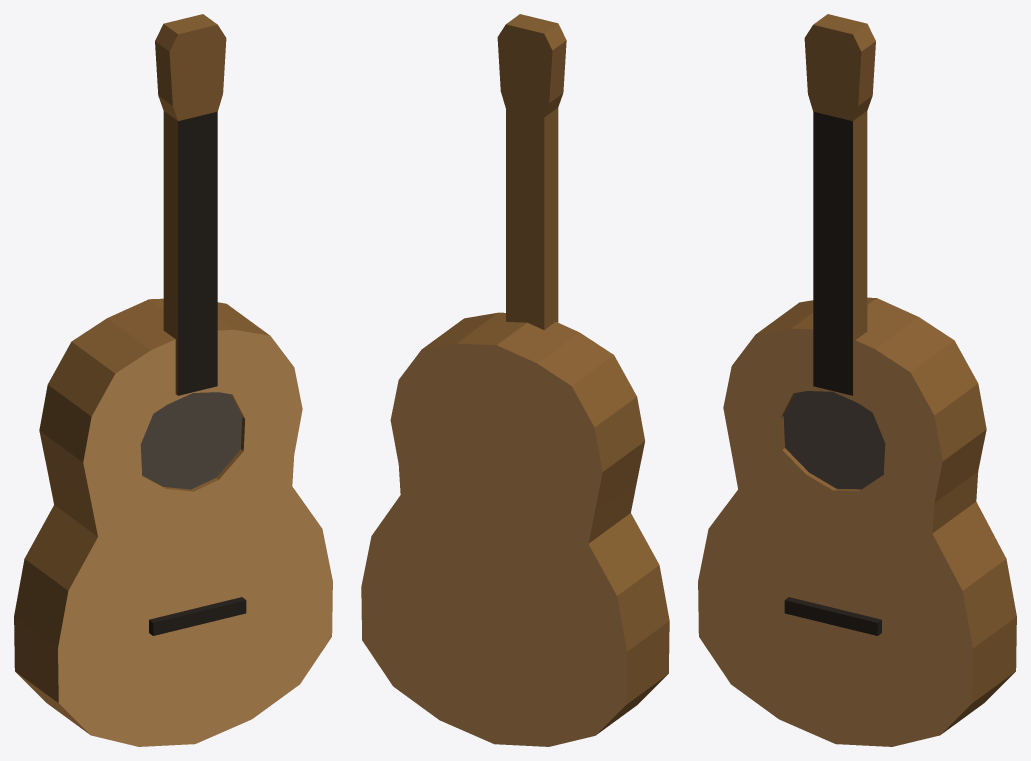
Rendered from Guitar.fbx.
The picture shows the model from 3 angles, left to right: view 1: azimuth 30°, elevation 25°; view 2: azimuth 150°, elevation 25°; view 3: azimuth 330°, elevation 25°; orthographic projection. The views are drawn at different scales.
Visible parts, largest first — view 1: Guitarr; view 2: Guitarr; view 3: Guitarr.
Boxes of the visible parts, x1=… form: Guitarr: x1=14, y1=14, x2=332, y2=746; Guitarr: x1=361, y1=14, x2=669, y2=746; Guitarr: x1=698, y1=14, x2=1016, y2=746.
Bounding box in the file's own units: 328 × 99.6 × 816.
